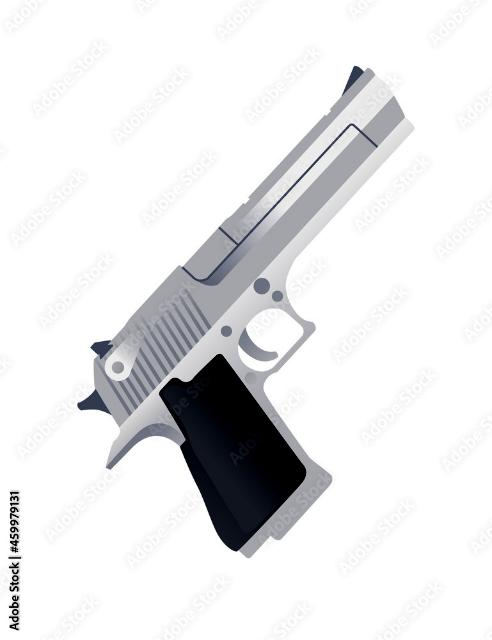pistol: (70, 58, 426, 580)
